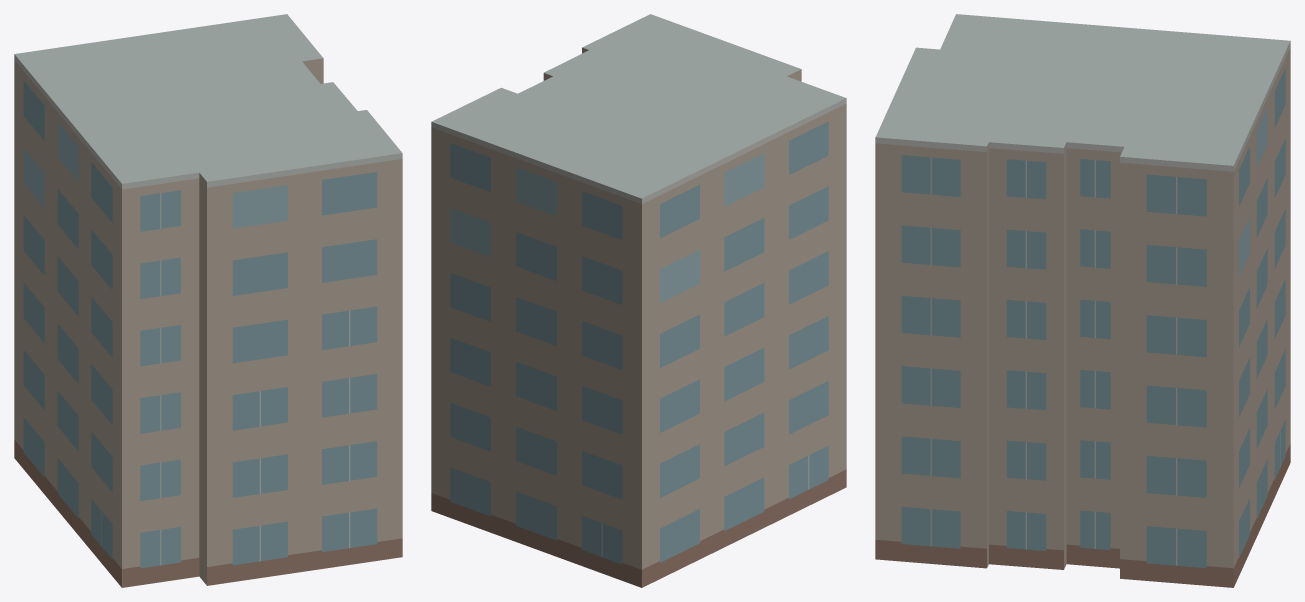
Rendered from survey-upis-32669572.glb.
3 views of the same model, side by side, from view 1: azimuth 30°, elevation 25°; view 2: azimuth 150°, elevation 25°; view 3: azimuth 270°, elevation 25° (orthographic). The views are drawn at different scales.
Visible parts, largest first — view 1: survey-upis-32669572.tmp; view 2: survey-upis-32669572.tmp; view 3: survey-upis-32669572.tmp.
Part boxes in pixels (x1=…): survey-upis-32669572.tmp: x1=14, y1=14, x2=402, y2=587; survey-upis-32669572.tmp: x1=431, y1=14, x2=846, y2=587; survey-upis-32669572.tmp: x1=875, y1=14, x2=1290, y2=587.
Size of the model in its own units: 13.44 by 17.4 by 15.52.
